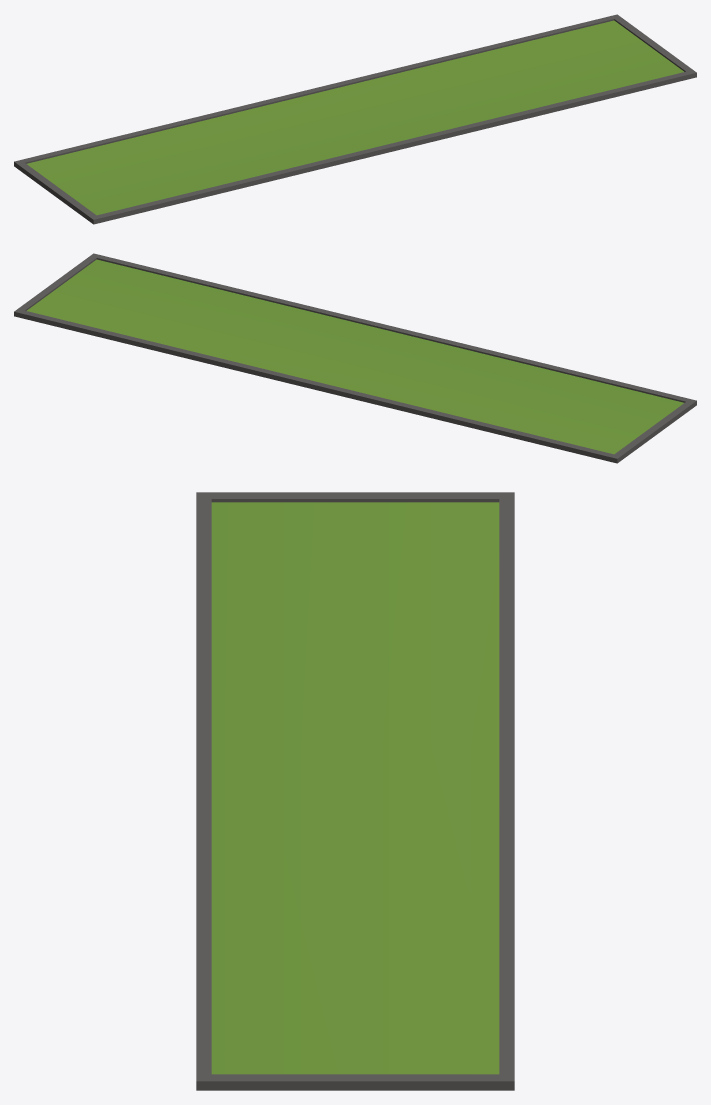
Rendered from SM_Floor_Garden_04.fbx.
3 views of the same model, one above another, from view 1: azimuth 30°, elevation 25°; view 2: azimuth 150°, elevation 25°; view 3: azimuth 270°, elevation 25° (orthographic). The views are drawn at different scales.
Visible parts, largest first — view 1: SM_Floor_Garden_04; view 2: SM_Floor_Garden_04; view 3: SM_Floor_Garden_04.
Part boxes in pixels (x1=…): SM_Floor_Garden_04: x1=14, y1=14, x2=696, y2=224; SM_Floor_Garden_04: x1=14, y1=253, x2=696, y2=463; SM_Floor_Garden_04: x1=196, y1=492, x2=514, y2=1090.
Size of the model in its own units: 10.11 by 0.075 by 2.31.
